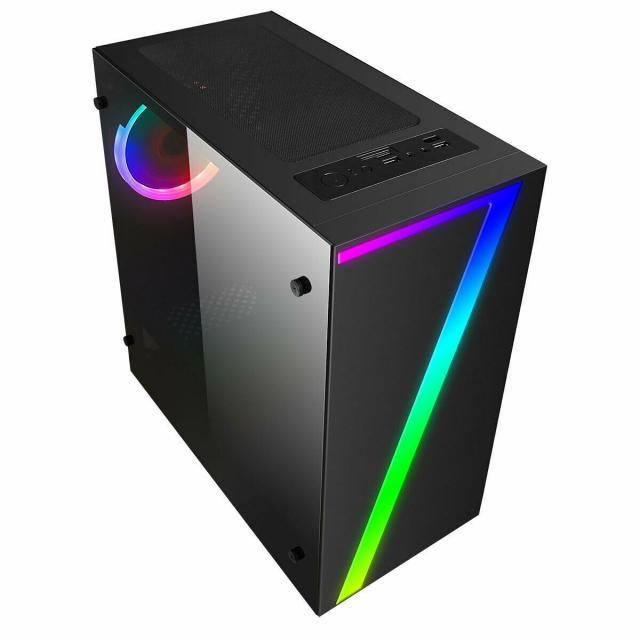Desktop-PC: (87, 9, 545, 613)
